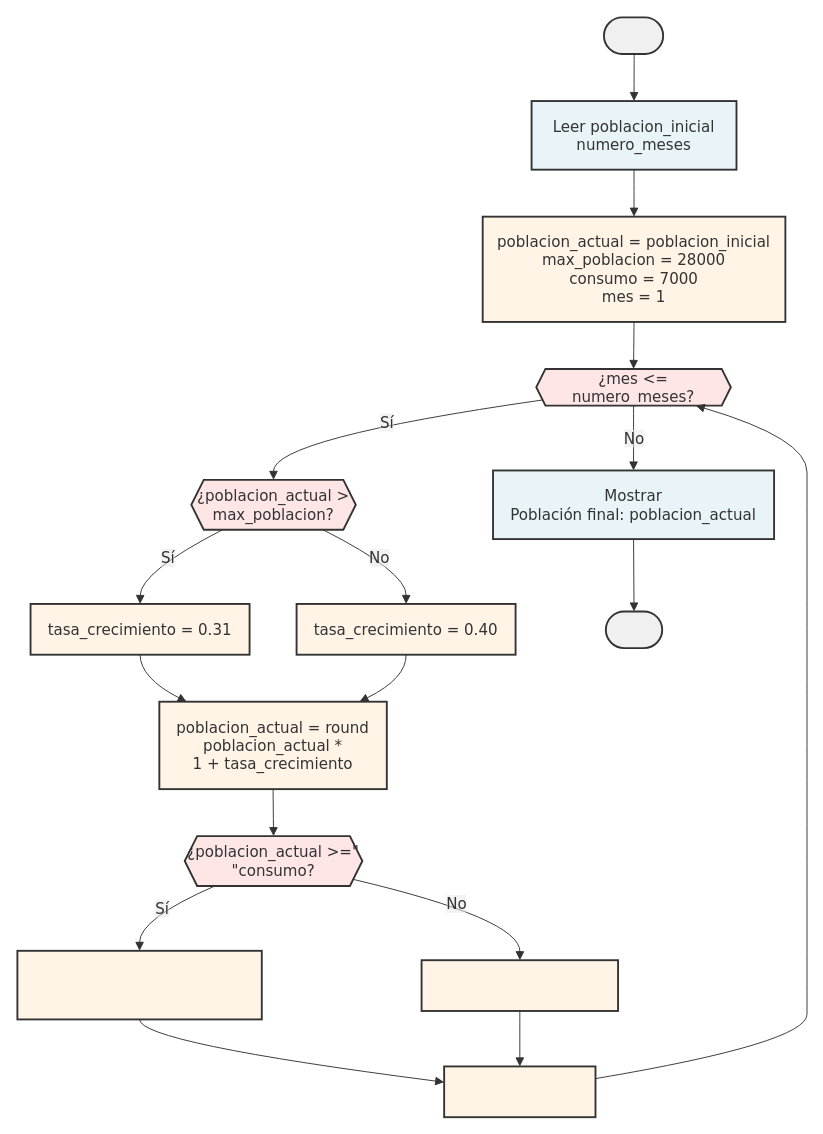
This 823x1134 diagram has some shape labels left out. The shapes that lost their labels are listed below. From the top down, each one's centre as x and y in pixels, then its label:
At (633,35): "Inicio".
At (633,629): "Fin".
At (139,984): "poblacion_actual = poblacion_actual - consumo".
At (519,985): "poblacion_actual = 0".
At (519,1091): "mes = mes + 1".
